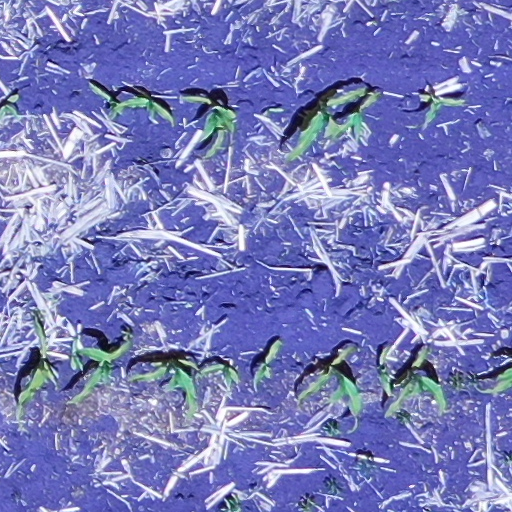planta: (285, 89, 367, 159), (15, 309, 56, 423), (70, 329, 131, 403), (298, 348, 363, 413), (131, 360, 199, 421), (387, 349, 447, 416), (182, 96, 235, 157), (330, 91, 378, 139), (111, 95, 172, 121), (422, 90, 462, 120), (254, 340, 281, 383), (196, 363, 238, 386), (379, 348, 393, 395)
